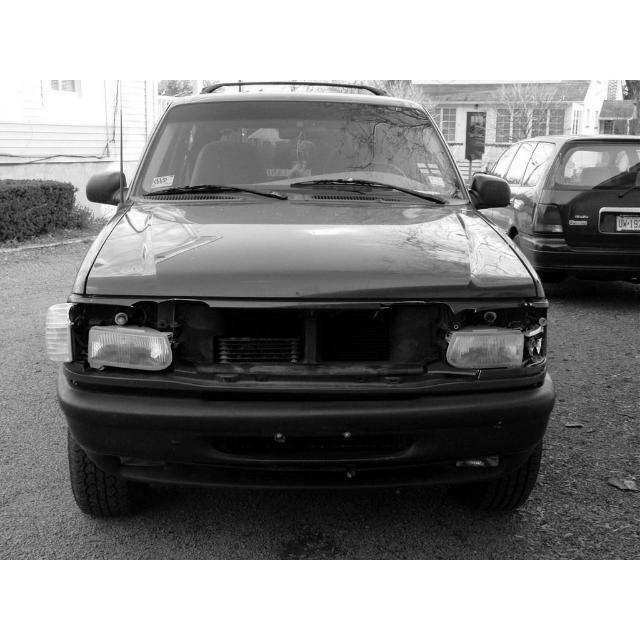Headlight-damage: (418, 277, 549, 392), (66, 278, 184, 393)
front-bumper-dent: (161, 300, 440, 402)
